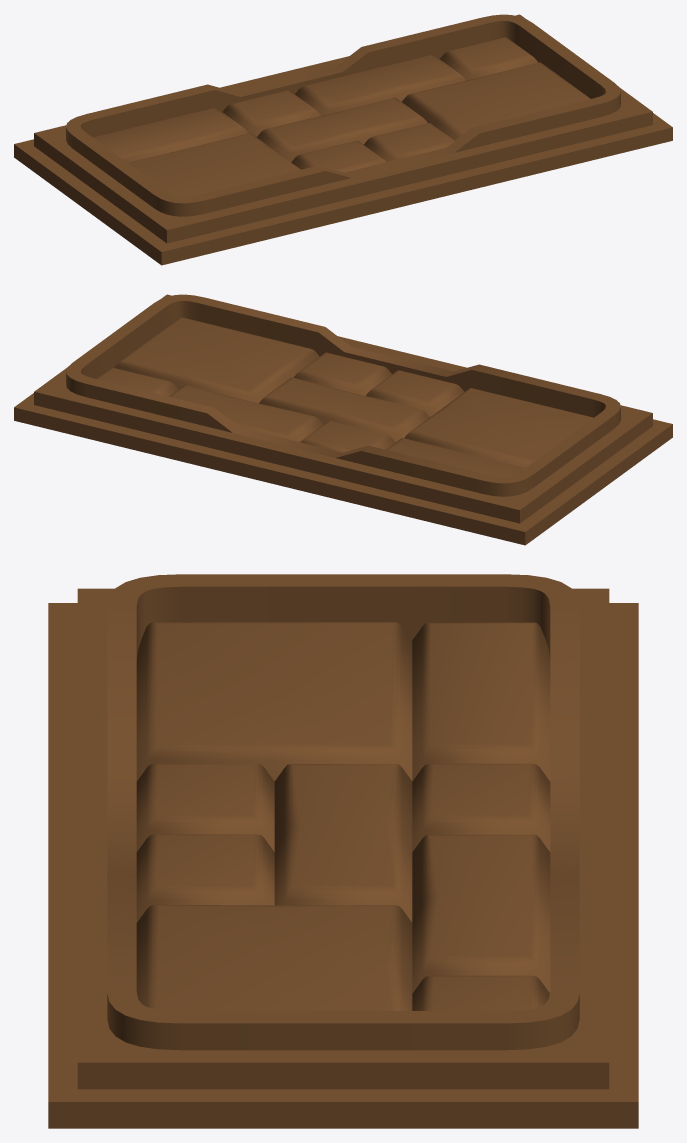
The model's file is Ceiling_B_4x2m.FBX.
3 views of the same model, one above another, from view 1: azimuth 30°, elevation 25°; view 2: azimuth 150°, elevation 25°; view 3: azimuth 270°, elevation 25° (orthographic). The views are drawn at different scales.
Visible parts, largest first — view 1: Ceiling_B_4x2m; view 2: Ceiling_B_4x2m; view 3: Ceiling_B_4x2m.
Boxes of the visible parts, x1=… form: Ceiling_B_4x2m: x1=14, y1=14, x2=672, y2=265; Ceiling_B_4x2m: x1=14, y1=294, x2=672, y2=545; Ceiling_B_4x2m: x1=48, y1=574, x2=638, y2=1128.
Size of the model in its own units: 400 by 30 by 200.
